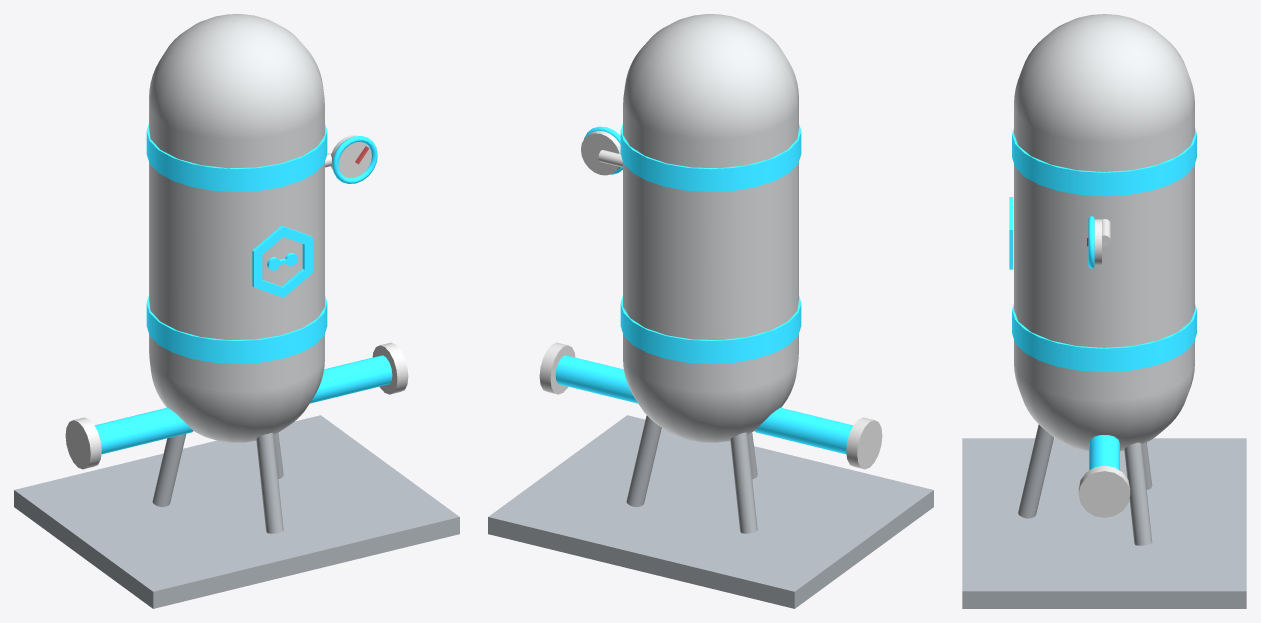
The model's file is H2Buffer.glb.
The picture shows the model from 3 angles, left to right: view 1: azimuth 30°, elevation 25°; view 2: azimuth 150°, elevation 25°; view 3: azimuth 270°, elevation 25°; orthographic projection. The views are drawn at different scales.
Visible parts, largest first — view 1: vessel, plinth, band (×2), pipe (×2), leg (×2), flange (×2), hex, gauge; view 2: vessel, plinth, band (×2), pipe (×2), leg (×2), flange (×2), gauge; view 3: vessel, plinth, band (×2), leg (×2), flange, pipe, gauge.
Boxes of the visible parts, x1=… form: vessel: x1=149, y1=14, x2=324, y2=442; plinth: x1=14, y1=415, x2=459, y2=608; band (×2): x1=146, y1=124, x2=327, y2=363; pipe (×2): x1=94, y1=355, x2=392, y2=454; leg (×2): x1=152, y1=433, x2=283, y2=533; flange (×2): x1=65, y1=342, x2=408, y2=469; hex: x1=252, y1=225, x2=312, y2=297; gauge: x1=331, y1=135, x2=377, y2=183; vessel: x1=623, y1=14, x2=798, y2=442; plinth: x1=488, y1=415, x2=933, y2=608; band (×2): x1=620, y1=124, x2=801, y2=363; pipe (×2): x1=555, y1=355, x2=853, y2=454; leg (×2): x1=626, y1=415, x2=757, y2=533; flange (×2): x1=539, y1=342, x2=882, y2=469; gauge: x1=581, y1=126, x2=622, y2=175; vessel: x1=1014, y1=14, x2=1194, y2=451; plinth: x1=962, y1=438, x2=1246, y2=608; band (×2): x1=1012, y1=128, x2=1196, y2=372; leg (×2): x1=1018, y1=424, x2=1152, y2=545; flange: x1=1078, y1=465, x2=1130, y2=517; pipe: x1=1089, y1=435, x2=1119, y2=470; gauge: x1=1088, y1=216, x2=1101, y2=268.
Size of the model in its own units: 2.9 by 4.35 by 2.2.
